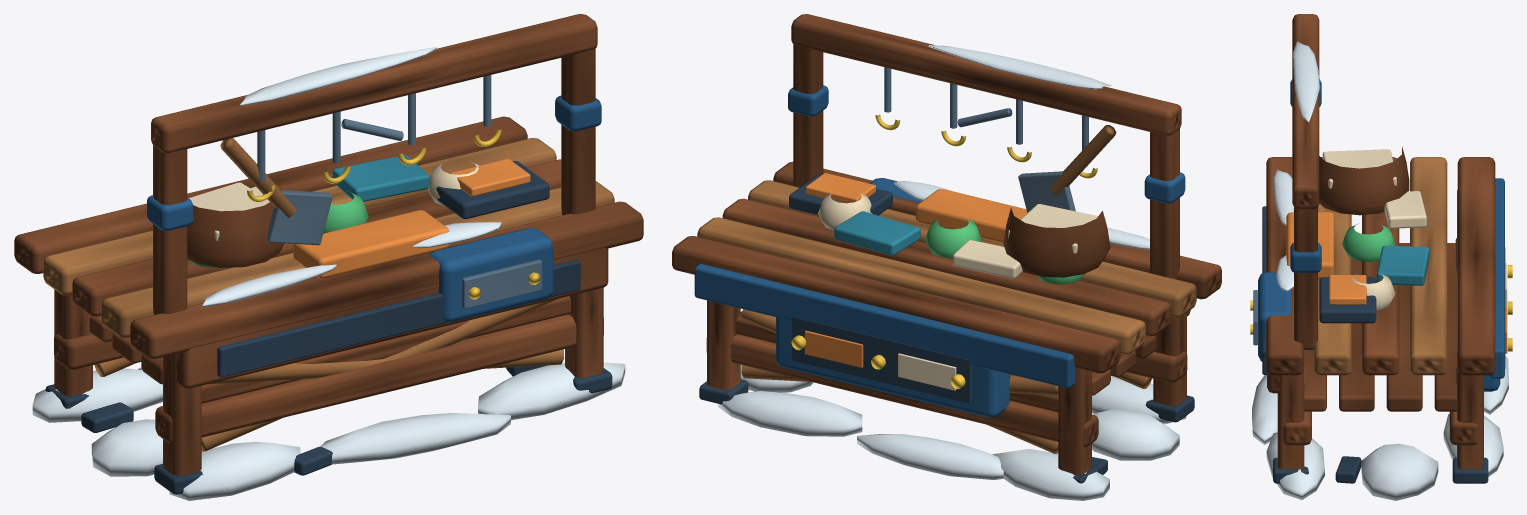
File: service_counter.glb
The picture shows the model from 3 angles, left to right: view 1: azimuth 30°, elevation 25°; view 2: azimuth 150°, elevation 25°; view 3: azimuth 270°, elevation 25°; orthographic projection. The views are drawn at different scales.
Parts seen in each view (by area): view 1: service_counter; view 2: service_counter; view 3: service_counter.
Boxes of the visible parts, x1,y1,x2,y2 form: service_counter: (14, 14, 643, 500); service_counter: (672, 14, 1221, 500); service_counter: (1250, 14, 1512, 500).
Size of the model in its own units: 3.18 by 2.31 by 1.75.
